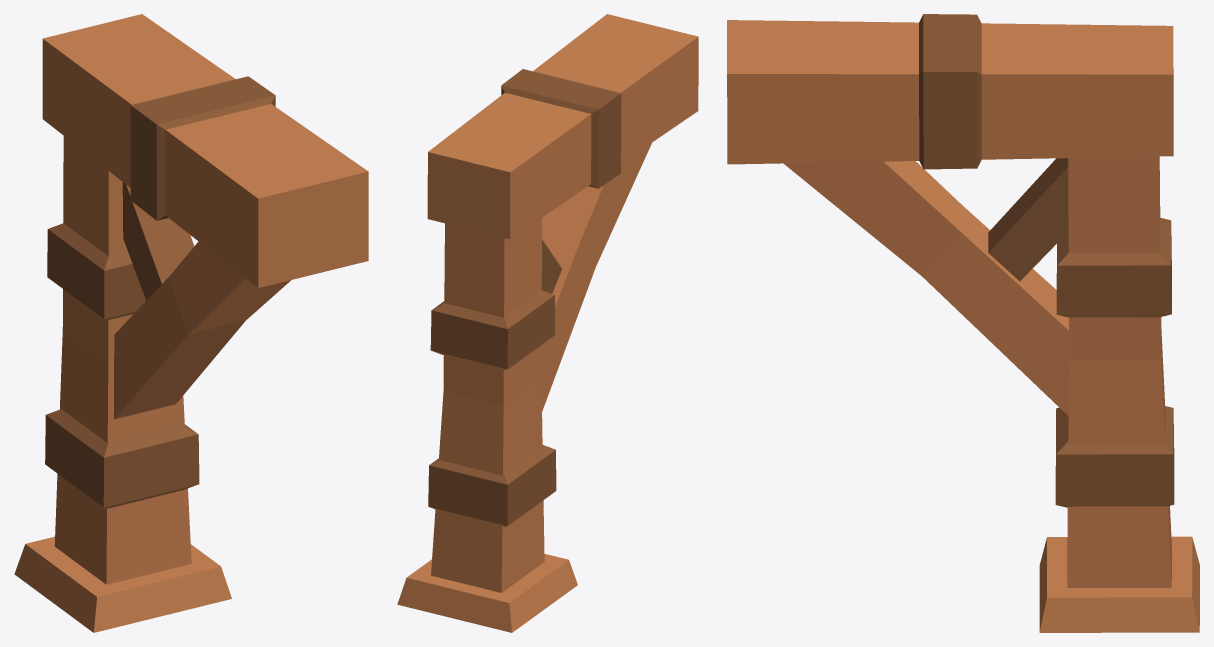
Rendered from angle_pillar.fbx.
The picture shows the model from 3 angles, left to right: view 1: azimuth 30°, elevation 25°; view 2: azimuth 150°, elevation 25°; view 3: azimuth 270°, elevation 25°; orthographic projection. The views are drawn at different scales.
Parts seen in each view (by area): view 1: angle_pillar; view 2: angle_pillar; view 3: angle_pillar.
Boxes of the visible parts, x1,y1,x2,y2 form: angle_pillar: (14, 14, 368, 632); angle_pillar: (397, 14, 698, 632); angle_pillar: (727, 14, 1199, 632).
Bounding box in the file's own units: 61.56 × 234 × 181.
1 material, 1 textured.
